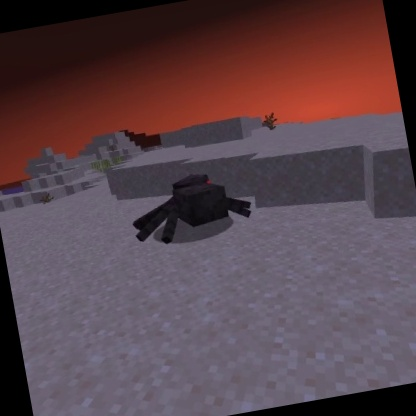spider: (120, 161, 261, 255)
